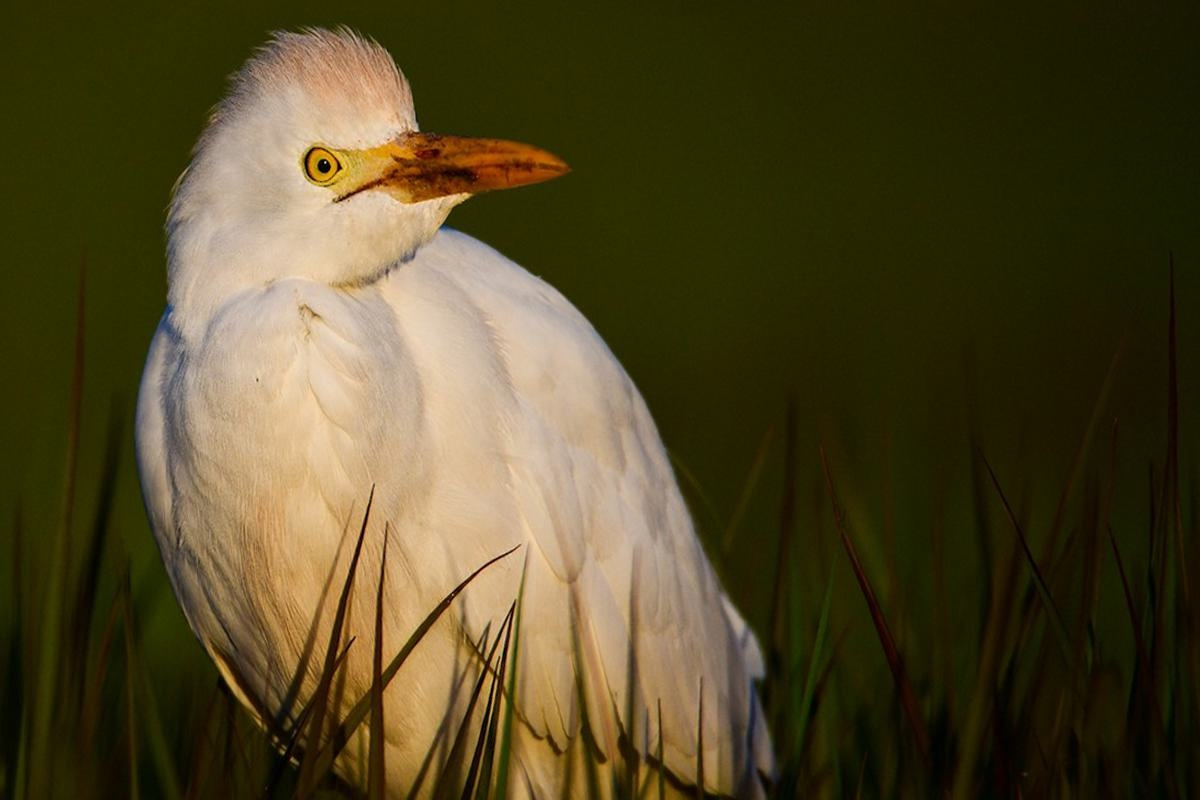egret: (117, 15, 771, 769)
